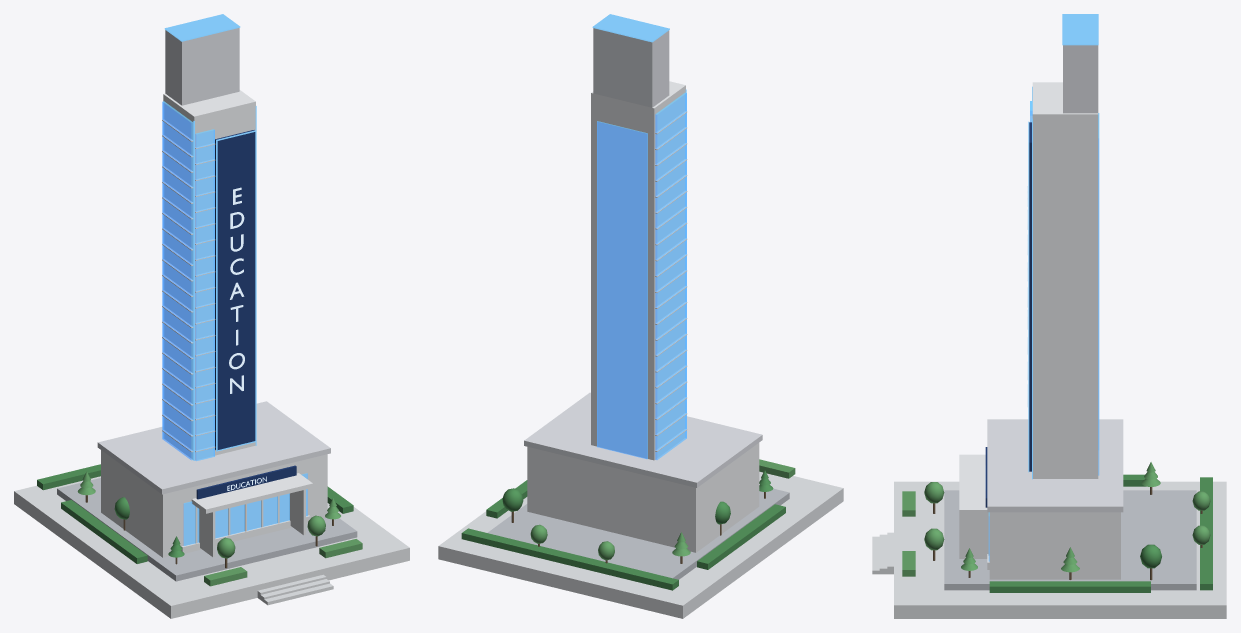
Rendered from education.glb.
3 views of the same model, side by side, from view 1: azimuth 30°, elevation 25°; view 2: azimuth 150°, elevation 25°; view 3: azimuth 270°, elevation 25° (orthographic). The views are drawn at different scales.
Visible parts, largest first — view 1: Tower_Main, Base_Platform, Tower_SignPanel, Tower_SideGlass, Podium, Podium_Rim, Tower_FrontGlass, Inner_Deck, Tower_Crown, Podium_Glass, Canopy, Hedge_L (+10 smaller); view 2: Tower_Main, Tower_RearGlass, Podium, Base_Platform, Tower_SideGlass, Podium_Rim, Inner_Deck, Tower_Crown, Hedge_Back, Hedge_L, Crown_LED; view 3: Tower_Main, Base_Platform, Inner_Deck, Podium, Podium_Rim, Tower_Crown, Hedge_R, Canopy, Canopy_Fin_1, Crown_LED, Hedge_Back, Tower_SignPanel (+2 smaller).
Boxes of the visible parts, box(x1,y1,x2,y2) form: Tower_Main: box(163, 90, 255, 460); Base_Platform: box(14, 476, 409, 618); Tower_SignPanel: box(215, 130, 255, 449); Tower_SideGlass: box(162, 101, 193, 460); Podium: box(101, 450, 327, 557); Podium_Rim: box(97, 401, 330, 494); Tower_FrontGlass: box(195, 129, 214, 461); Inner_Deck: box(57, 478, 357, 581); Tower_Crown: box(165, 28, 239, 105); Podium_Glass: box(183, 473, 307, 546); Canopy: box(191, 473, 312, 513); Hedge_L: box(61, 500, 147, 563); Tower_Main: box(591, 81, 685, 460); Tower_RearGlass: box(597, 121, 647, 459); Podium: box(527, 443, 759, 552); Base_Platform: box(438, 471, 843, 618); Tower_SideGlass: box(655, 92, 686, 459); Podium_Rim: box(524, 392, 762, 487); Inner_Deck: box(487, 488, 789, 579); Tower_Crown: box(593, 28, 669, 107); Hedge_Back: box(461, 528, 678, 590); Hedge_L: box(697, 504, 785, 569); Crown_LED: box(592, 14, 669, 42); Tower_Main: box(1032, 82, 1098, 478); Base_Platform: box(894, 481, 1226, 618); Inner_Deck: box(944, 490, 1196, 590); Podium: box(989, 512, 1120, 579); Podium_Rim: box(987, 419, 1123, 512); Tower_Crown: box(1063, 45, 1098, 113); Hedge_R: box(989, 581, 1150, 592); Canopy: box(959, 454, 989, 514); Canopy_Fin_1: box(959, 514, 988, 558); Crown_LED: box(1062, 14, 1098, 45); Hedge_Back: box(1200, 477, 1212, 590); Tower_SignPanel: box(1029, 122, 1031, 471).
Size of the model in its own units: 58 by 116 by 70.3.
